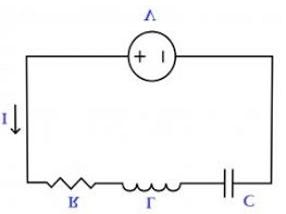inductor: (110, 170, 192, 194)
